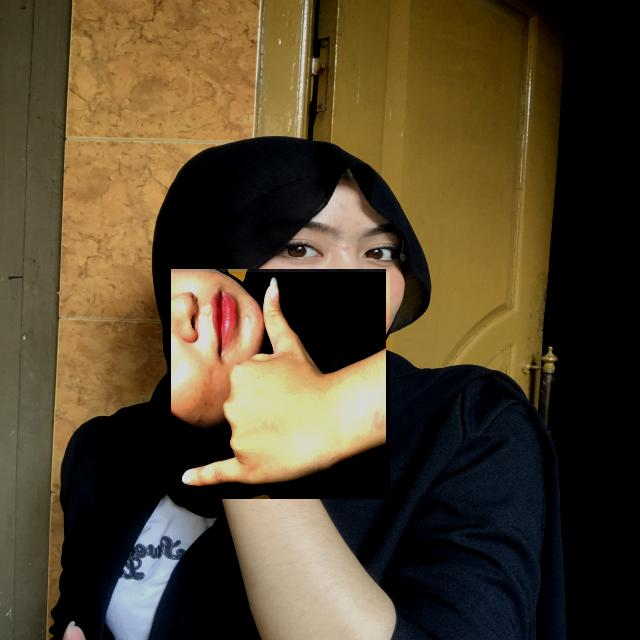telpon: (167, 272, 390, 495)
